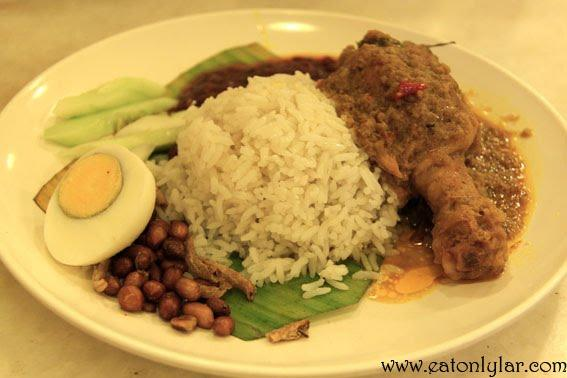Boiled-Egg: (43, 148, 156, 268)
Cucumber: (45, 80, 200, 161)
Peanuts: (108, 224, 235, 337)
Rendang-Chicken: (289, 31, 529, 285)
Rice: (158, 73, 396, 277)
Sambal: (179, 56, 336, 108)
